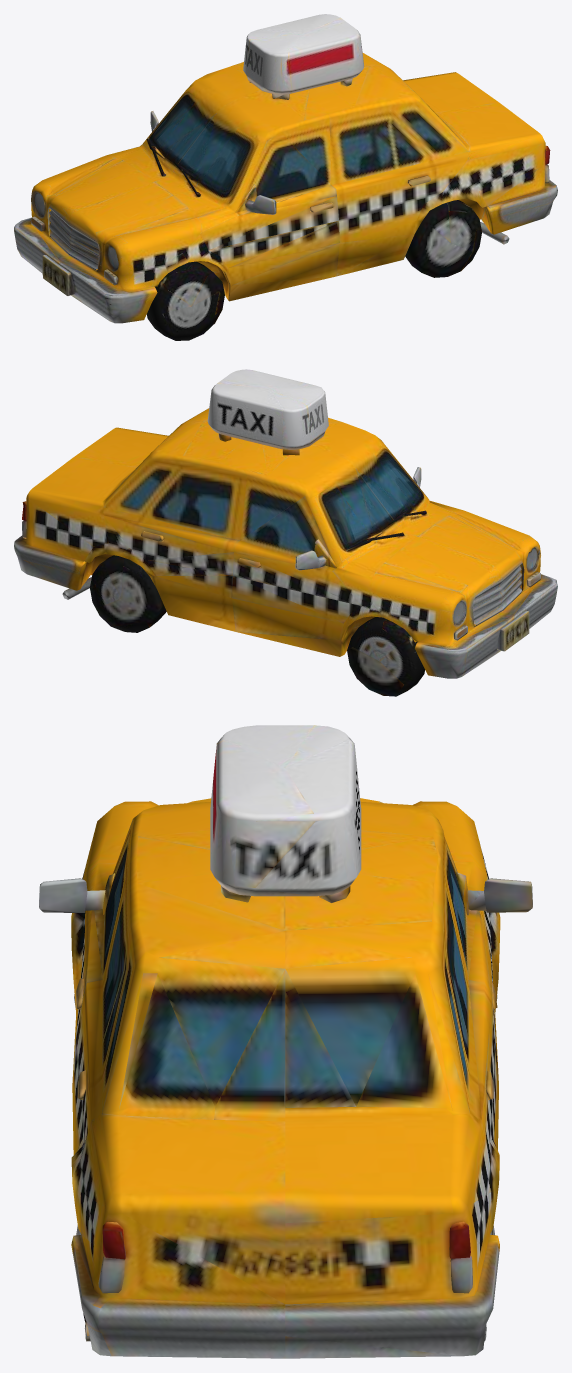
Rendered from taxi.glb.
3 views of the same model, one above another, from view 1: azimuth 30°, elevation 25°; view 2: azimuth 150°, elevation 25°; view 3: azimuth 270°, elevation 25° (orthographic). The views are drawn at different scales.
Bounding box in the file's own units: 4.9 × 2.36 × 2.29.
Materials: 1 (1 with a texture image).
